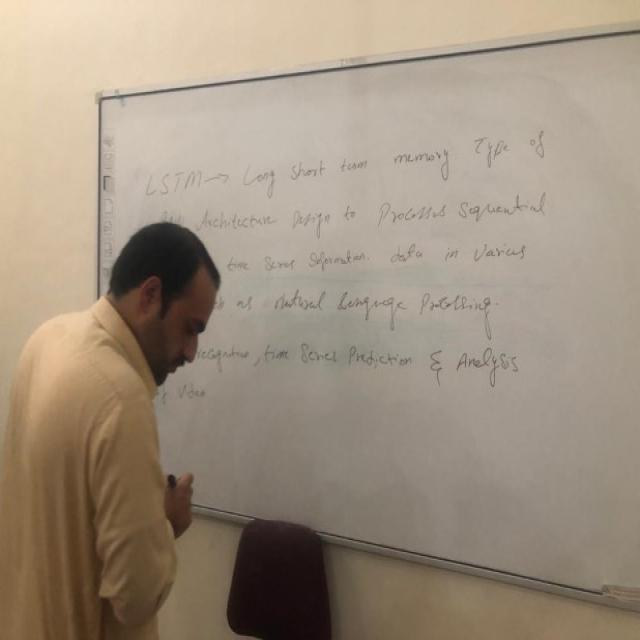Instructor: (36, 196, 215, 640)
White-board: (94, 22, 640, 606)
